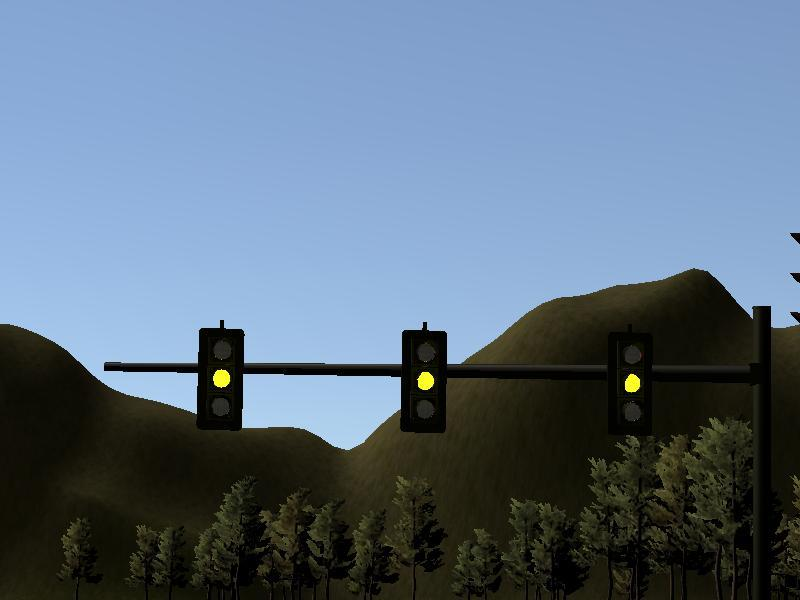Yellow: (401, 330, 447, 432), (607, 332, 652, 436), (198, 328, 243, 430)
